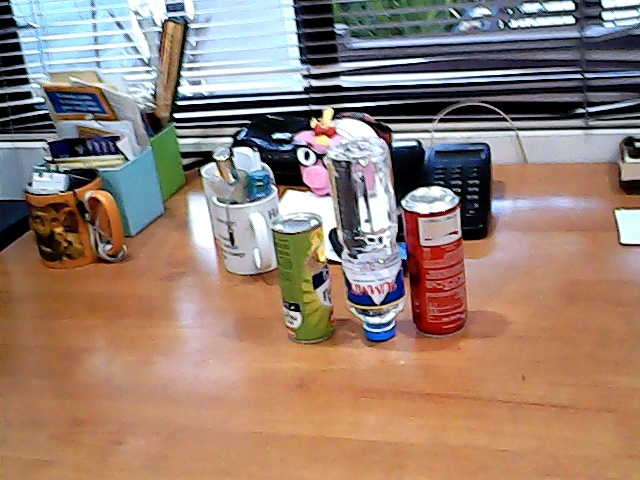Cola: (408, 174, 477, 343)
Pine Juice: (272, 210, 334, 353)
Summit Water: (344, 126, 410, 352)
